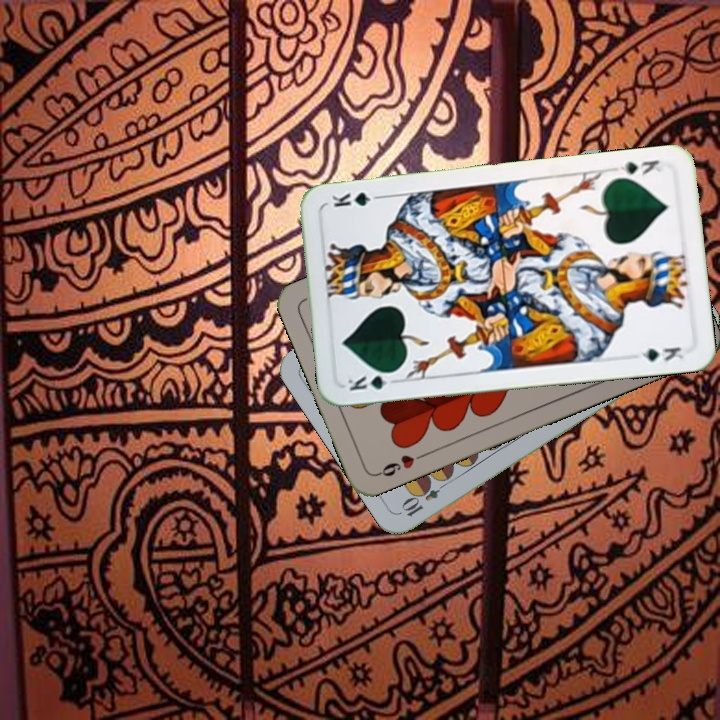E10: (398, 475, 451, 520)
GK: (343, 367, 401, 394), (611, 156, 664, 177)
H9: (372, 449, 429, 480)
